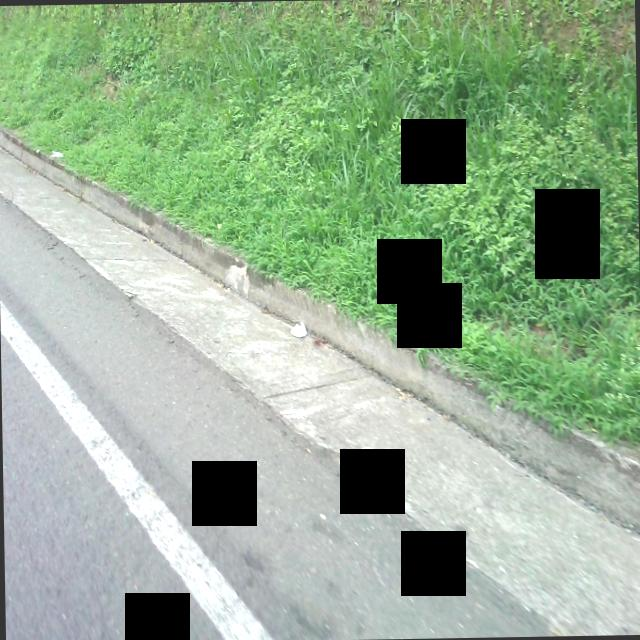DITCH: (0, 76, 640, 640), (0, 106, 640, 640), (0, 113, 640, 640)
